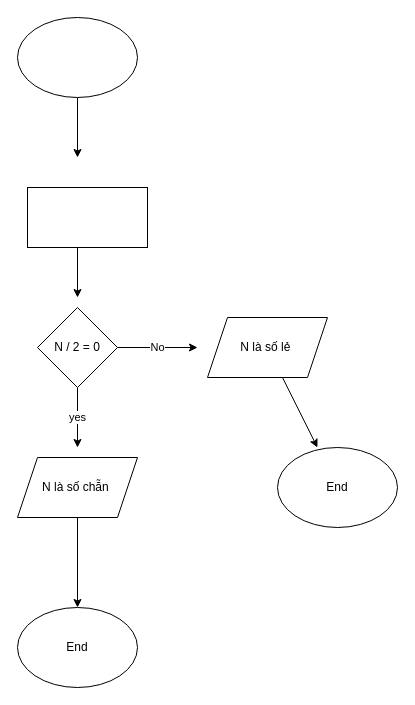
The diagram is 415 pixels wide and 705 high, and some of its shapes have lost their labels. Each missing label, with the centre of its shape:
"Nhap so nguyen n" belongs at point (87, 217).
"Start" belongs at point (77, 57).
